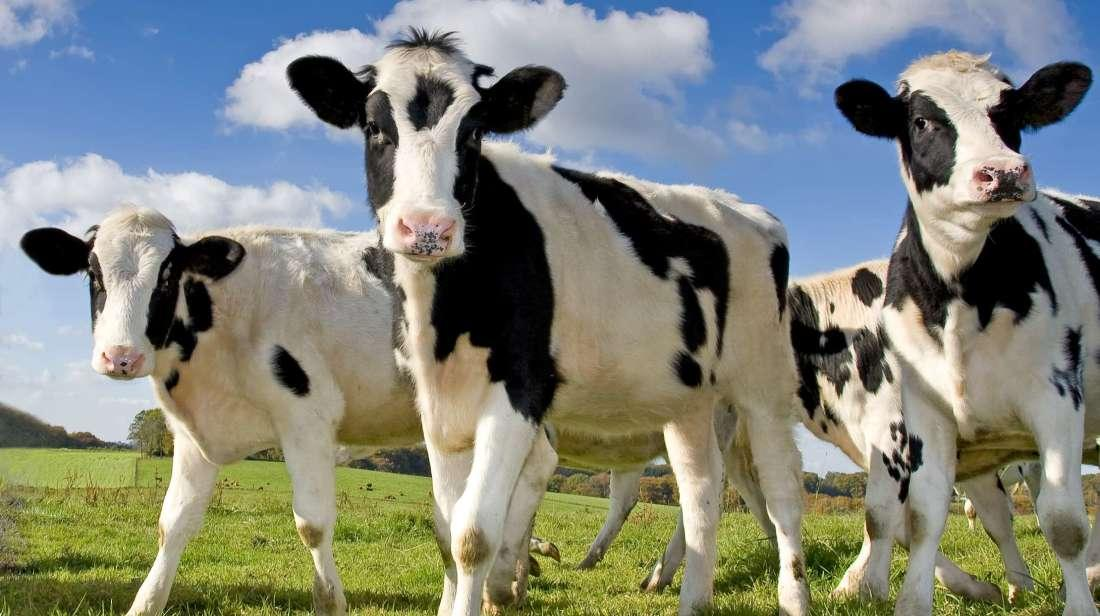muzzles: (376, 200, 471, 269), (956, 153, 1037, 220), (92, 343, 154, 383)
